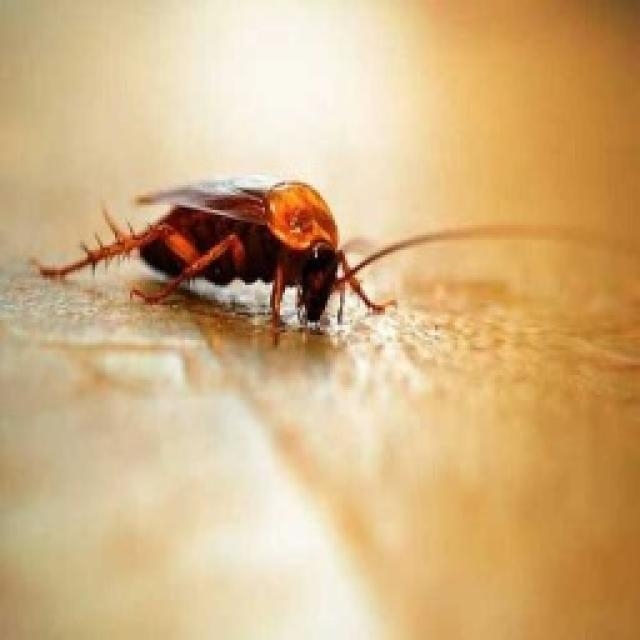cockroach: (64, 157, 348, 350)
